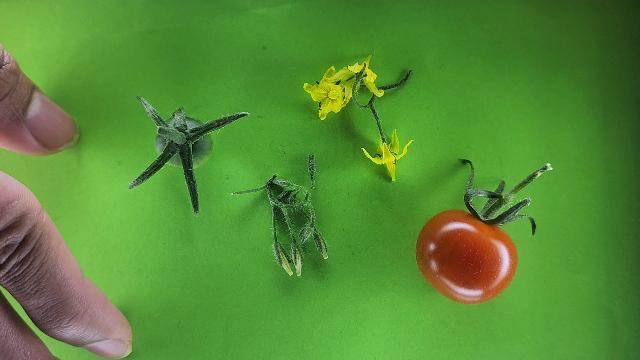Anthesis: (361, 128, 415, 181), (304, 63, 355, 118), (345, 54, 382, 98)
Flower Bud: (280, 255, 293, 276), (294, 252, 302, 277), (322, 248, 328, 259)
Fruit Maturation: (158, 115, 215, 169)
Fully Grown: (414, 207, 519, 304)
